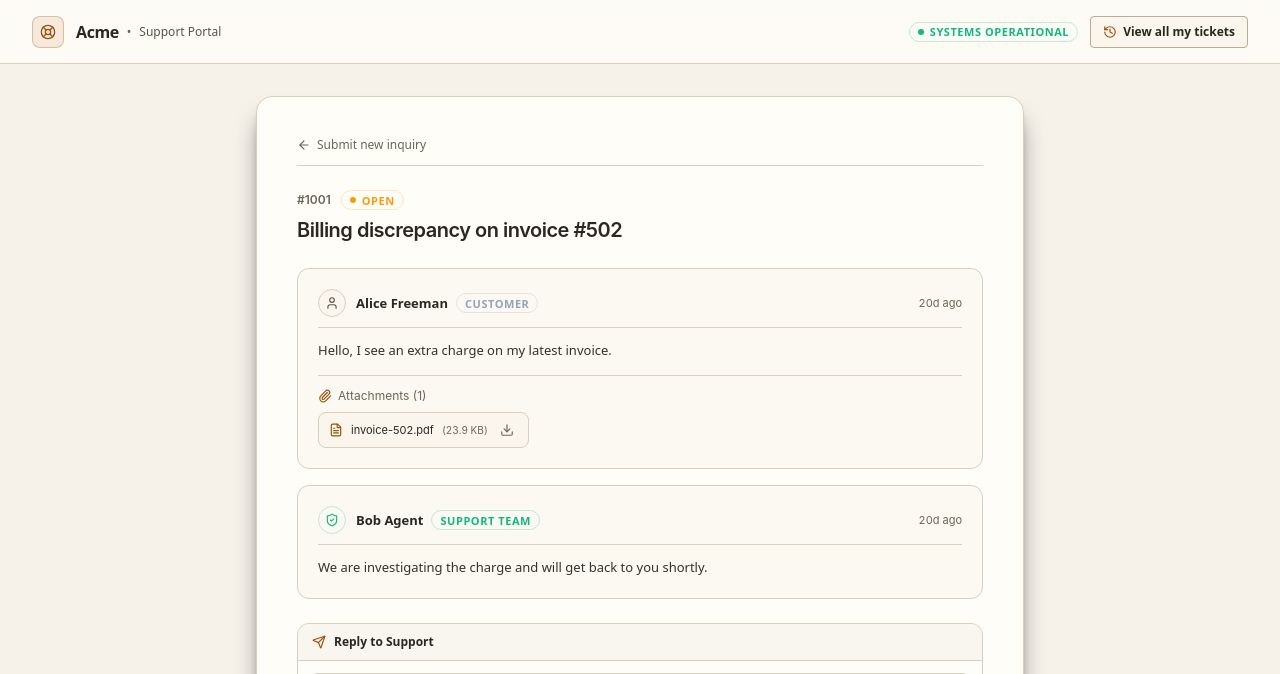
Customer Portal Conversation Thread, Composed Replies & Closed Lockout (#106) › header link "View all my tickets" opens FindMyTicketsModal
The image size is (1280, 674).
Check: the heading "Billing discrepancy on invoice #502" is shown, box [297,216,622,244]
Click the button "View all my tickets": (1169, 32) [1090,16,1248,48]
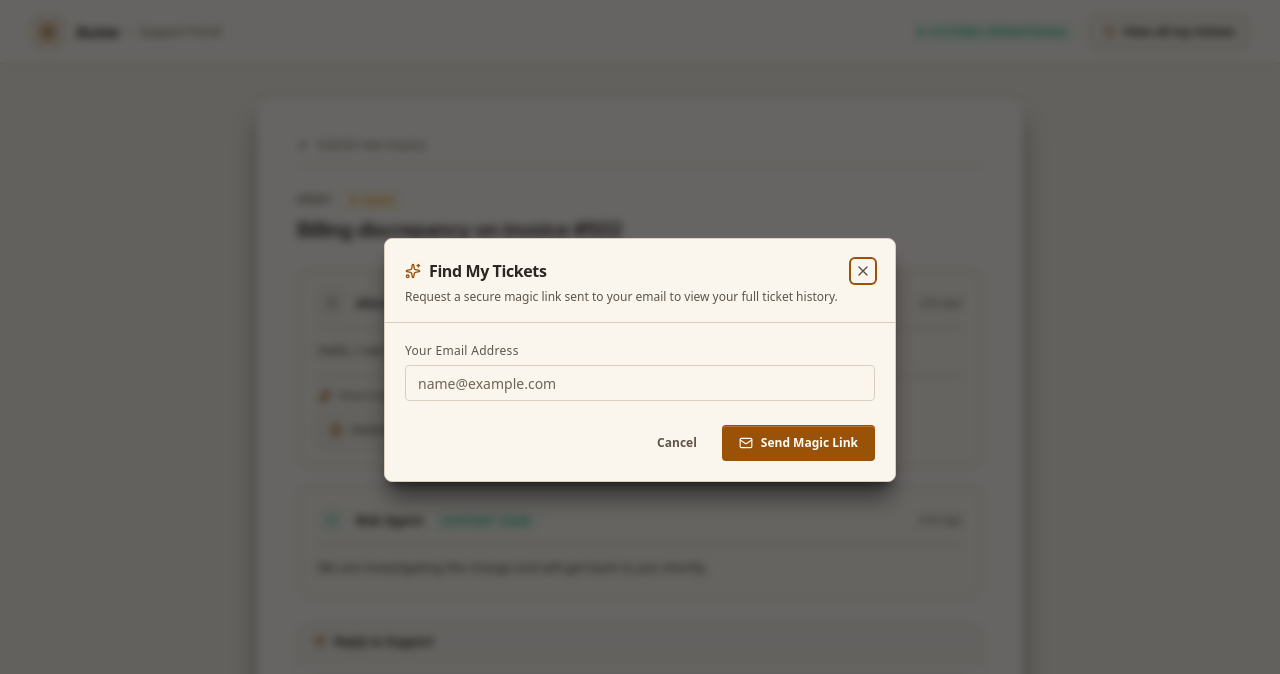
Check: the heading "Find My Tickets" is shown, box [405,260,546,282]
